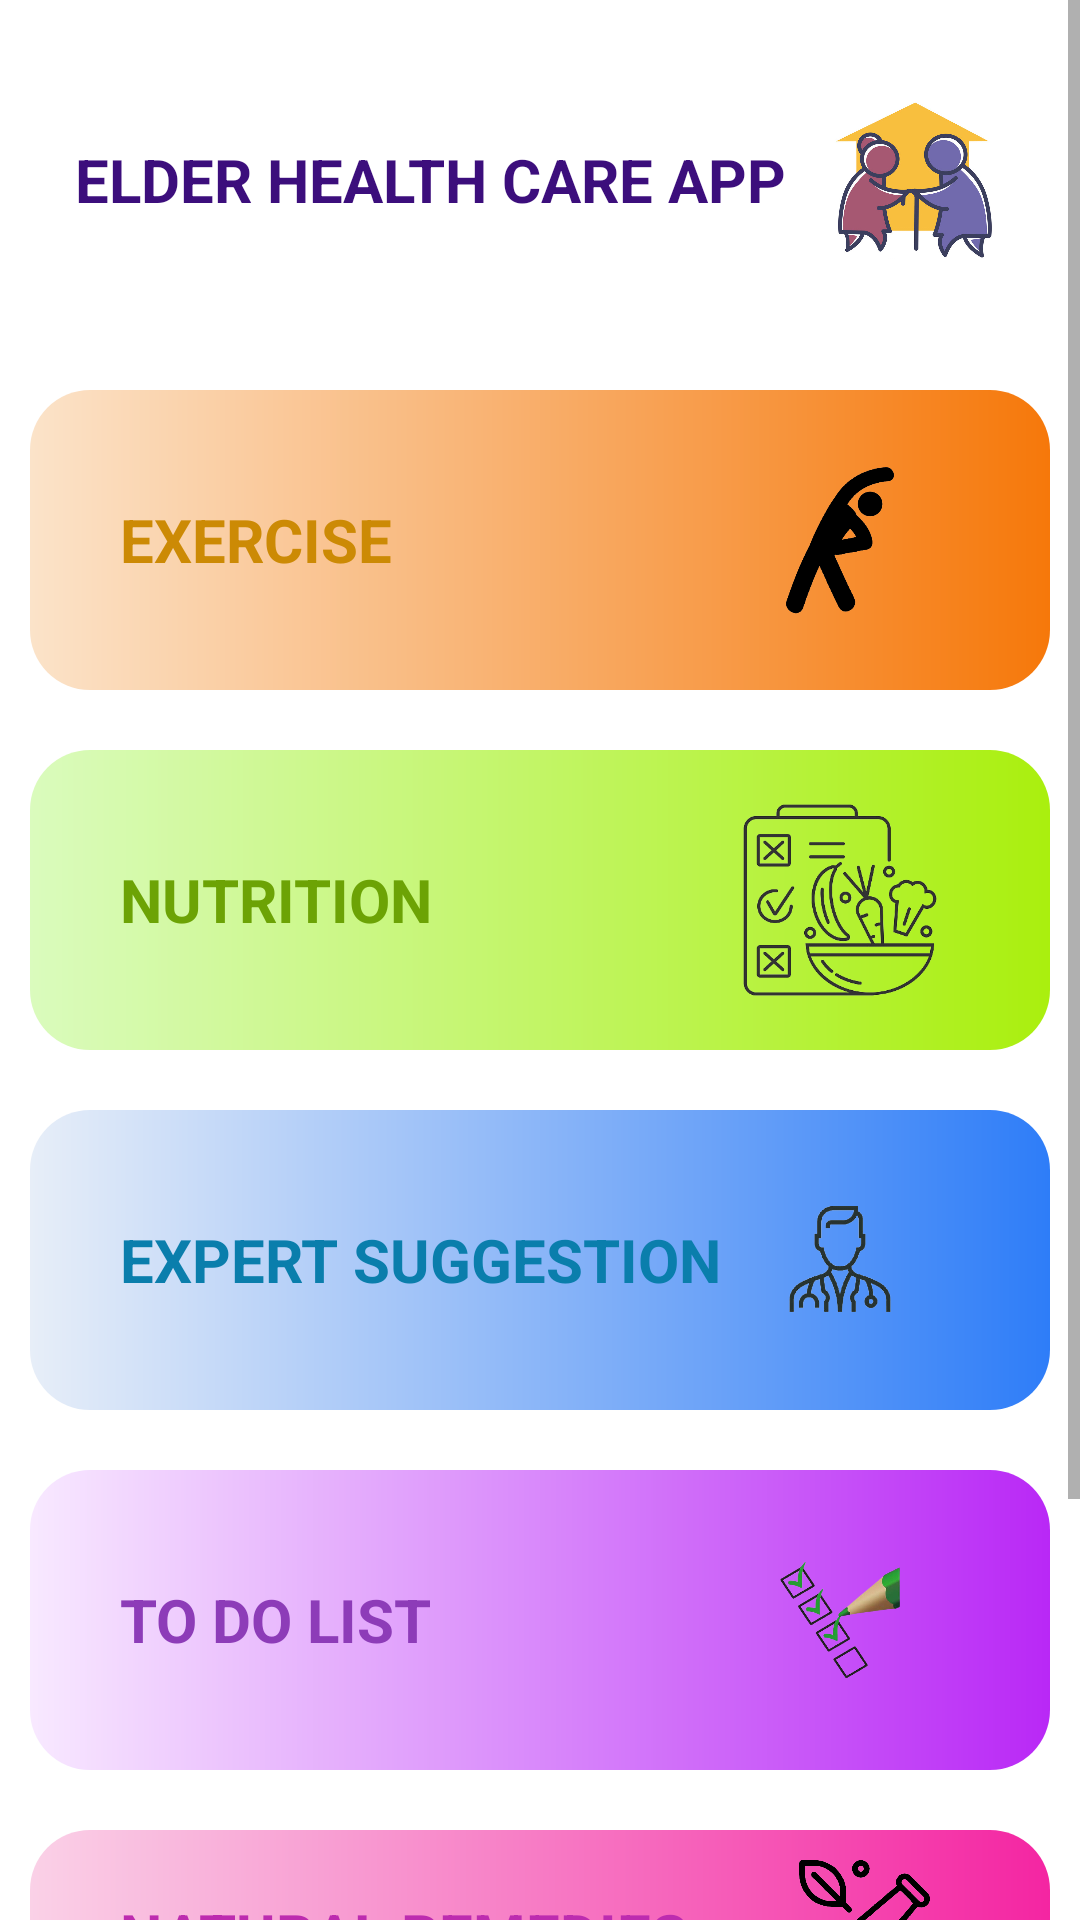

Where to tap for icons on this 1080w x 1920h app screen, as [x,y]:
diet: [840,900]
